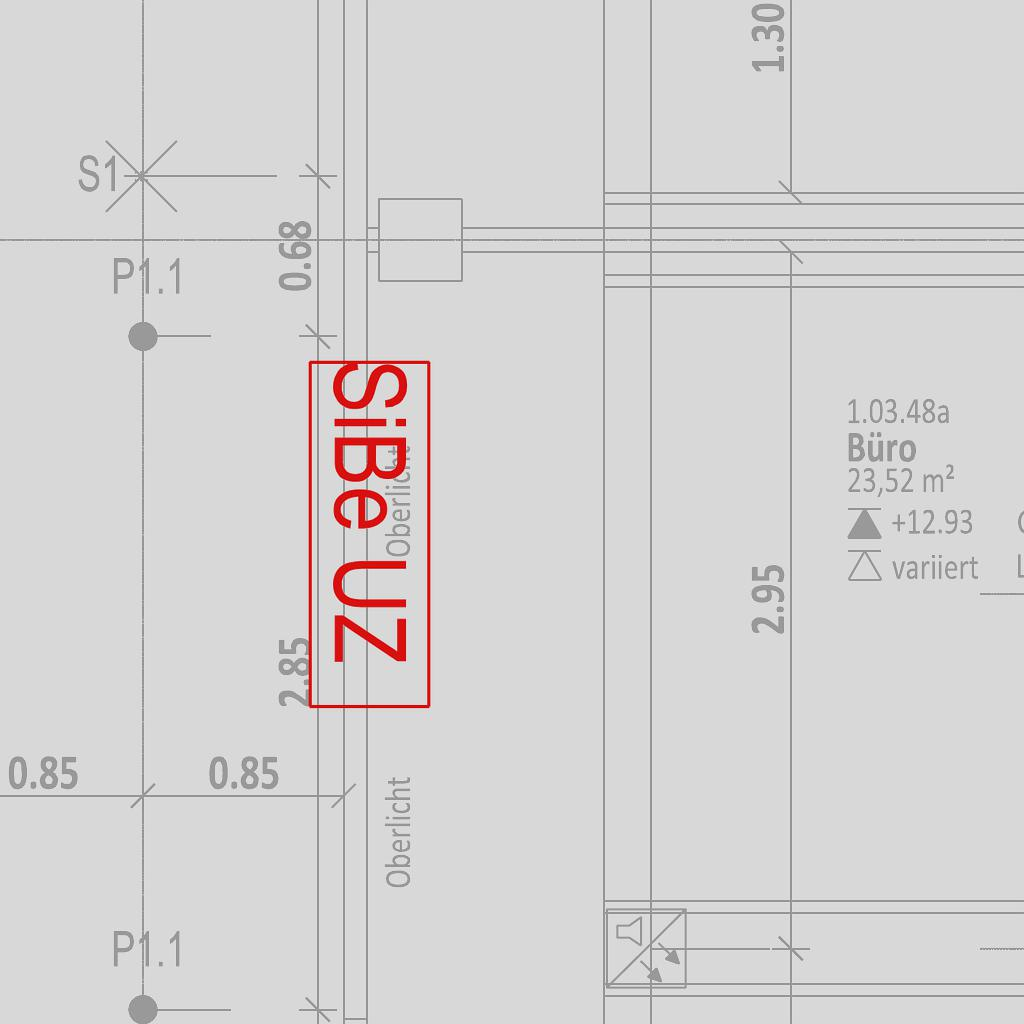Zentrale_Sicherheitsbeleuchtung: (304, 357, 434, 714)
